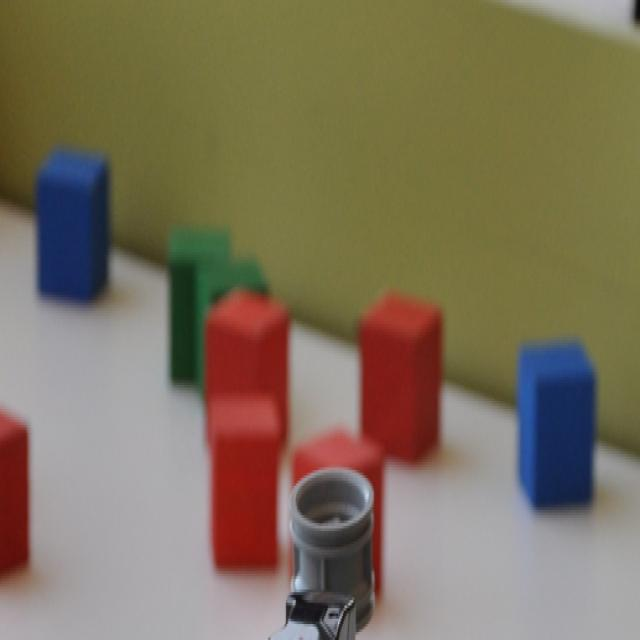bluecube: (516, 341, 596, 504), (37, 148, 109, 304)
green cube: (168, 221, 233, 386), (193, 251, 268, 386)
red cube: (364, 288, 443, 462), (204, 285, 288, 435), (207, 392, 280, 564)
